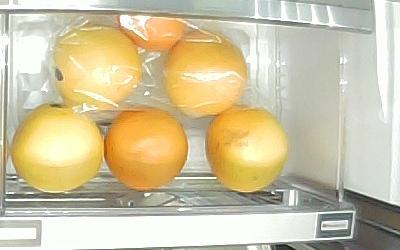grapefruit: (10, 104, 105, 195), (103, 105, 189, 191), (205, 106, 290, 192)
grapefruit_vinyl: (48, 24, 145, 111), (161, 29, 248, 119), (116, 15, 187, 53)
